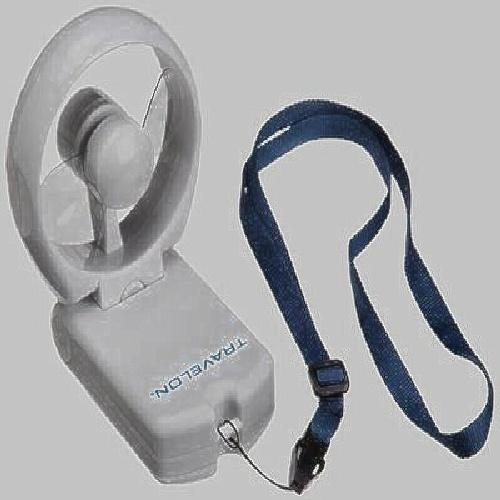fan: (29, 21, 284, 467)
